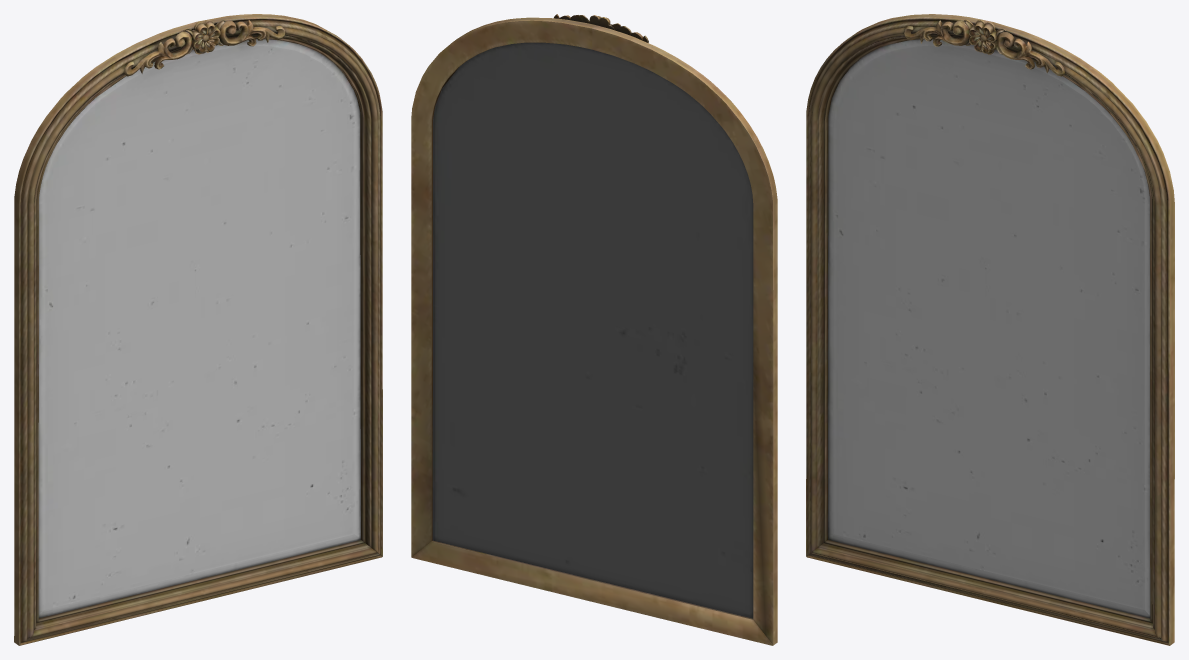
Rendered from ornate_mirror_01.glb.
The picture shows the model from 3 angles, left to right: view 1: azimuth 30°, elevation 25°; view 2: azimuth 150°, elevation 25°; view 3: azimuth 330°, elevation 25°; orthographic projection.
Parts seen in each view (by area): view 1: ornate_mirror_01; view 2: ornate_mirror_01; view 3: ornate_mirror_01.
Boxes of the visible parts, x1,y1,x2,y2 form: ornate_mirror_01: (14,14,382,645); ornate_mirror_01: (411,14,777,645); ornate_mirror_01: (806,14,1174,645).
Size of the model in its own units: 0.4865 by 0.7442 by 0.026.
Materials: 1 (1 with a texture image).
